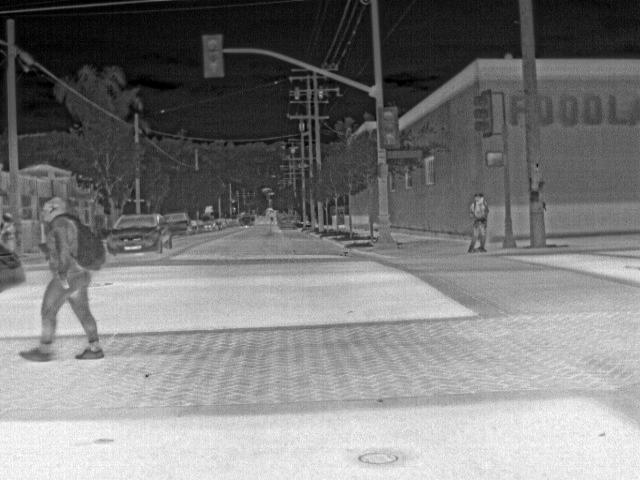car: (105, 211, 173, 258), (0, 240, 28, 293), (160, 209, 191, 236), (276, 214, 296, 230), (190, 218, 206, 234), (202, 218, 218, 232), (239, 214, 254, 227), (214, 218, 228, 230), (275, 213, 285, 222), (232, 217, 240, 227), (226, 217, 234, 227), (257, 209, 265, 217)
person: (21, 195, 104, 362), (467, 192, 488, 254), (1, 213, 16, 247)
